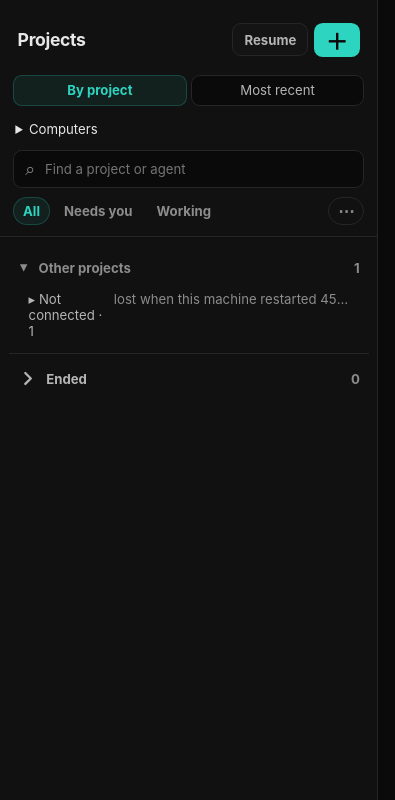
Test: capability: the row carries it › shows the reason on the navigator row
Click the button named "Not connected . 1" at (62, 315), box [9, 285, 369, 344]
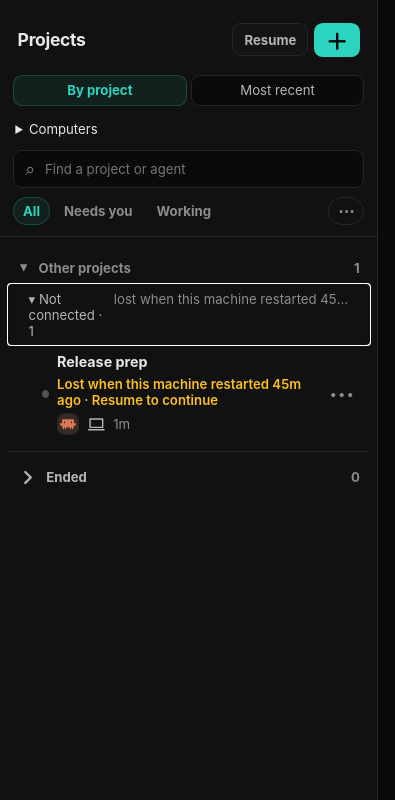
Expected: the text "Resume to continue" is shown, [57, 376, 301, 408]
